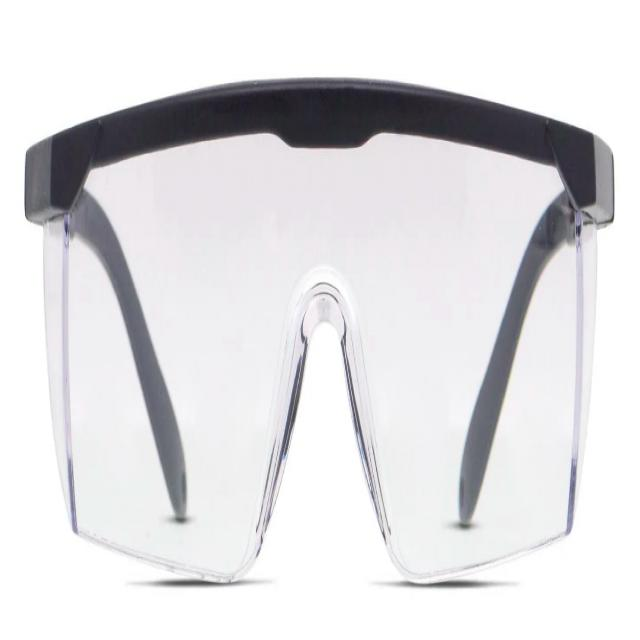Protective Glasses: (1, 3, 640, 640)
